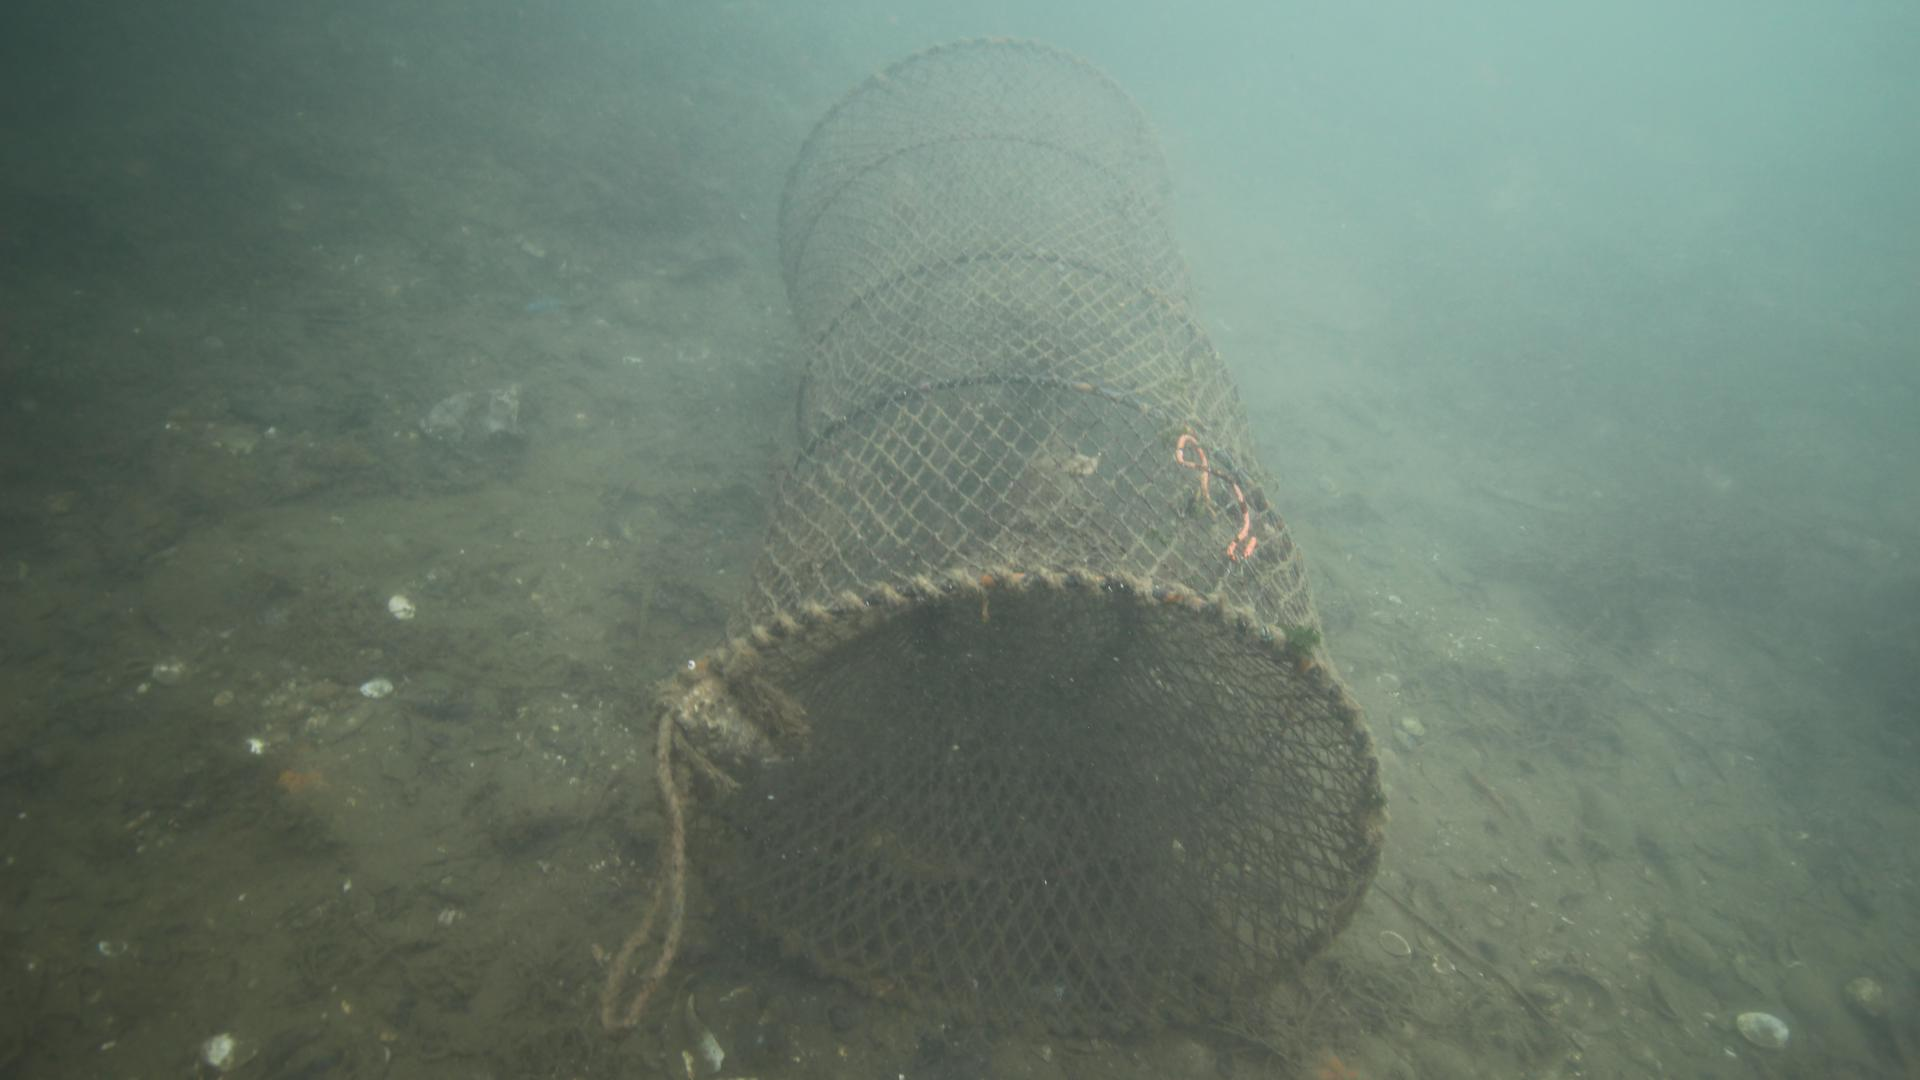bundle of ropes: (593, 698, 704, 1030)
spring fish trap: (674, 33, 1389, 1047)
